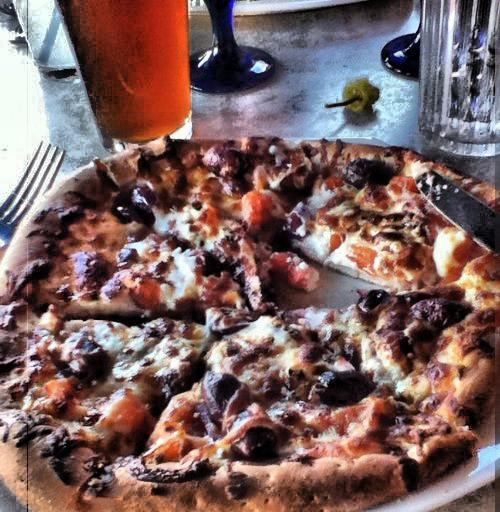pizza: (6, 120, 500, 512)
